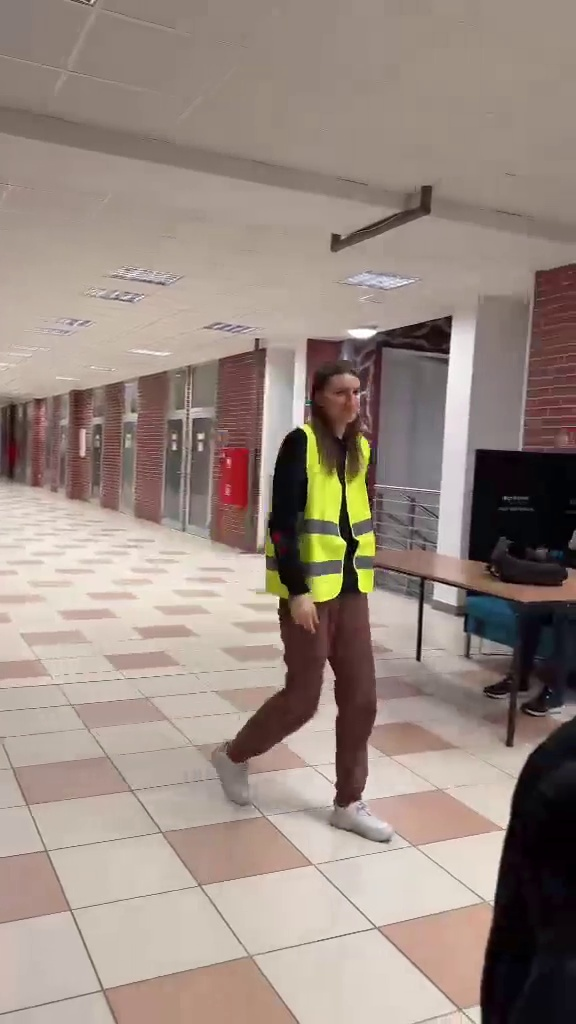vest: (215, 355, 397, 845)
